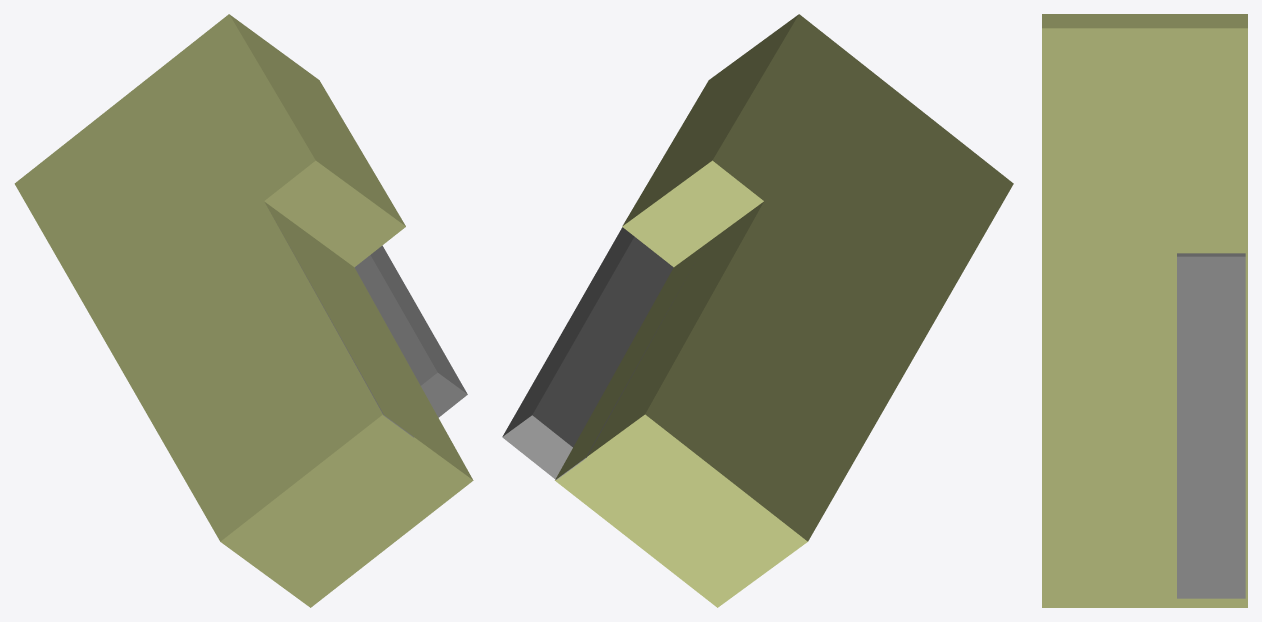
The picture shows the model from 3 angles, left to right: view 1: azimuth 30°, elevation 25°; view 2: azimuth 150°, elevation 25°; view 3: azimuth 270°, elevation 25°; orthographic projection. The views are drawn at different scales.
Parts seen in each view (by area): view 1: 0_1_0_2_0_0_2_3_0; view 2: 0_1_0_2_0_0_2_3_0; view 3: 0_1_0_2_0_0_2_3_0.
Part boxes in pixels (x1,y1,x2,y2): 0_1_0_2_0_0_2_3_0: (14,14,473,607); 0_1_0_2_0_0_2_3_0: (502,14,1013,607); 0_1_0_2_0_0_2_3_0: (1042,14,1247,607).
Bounding box in the file's own units: 24.27 × 28.87 × 9.
